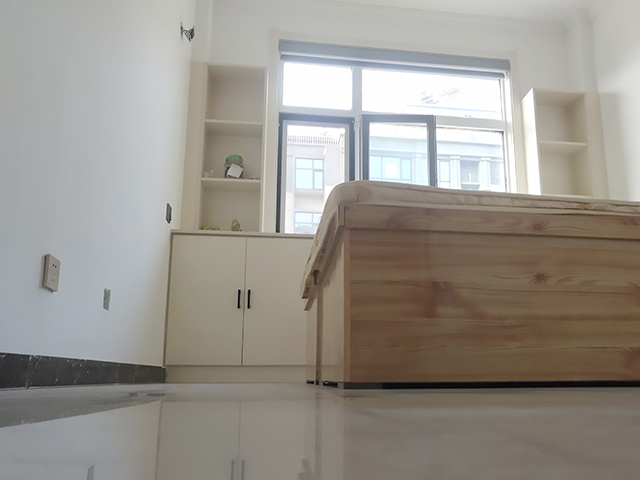bed: (299, 177, 640, 391)
cabinet: (162, 226, 314, 386)
